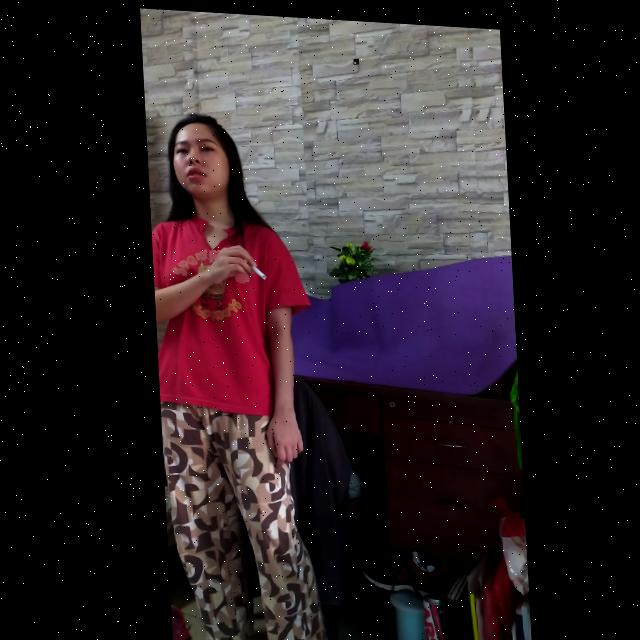cigarette: (242, 256, 263, 276)
